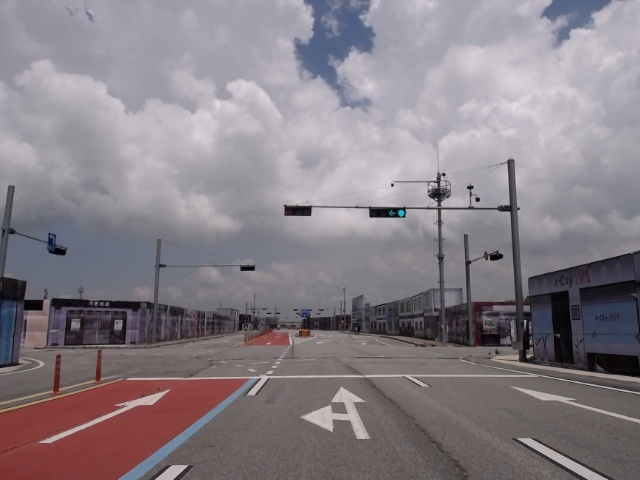all_green_4: (370, 207, 407, 219)
